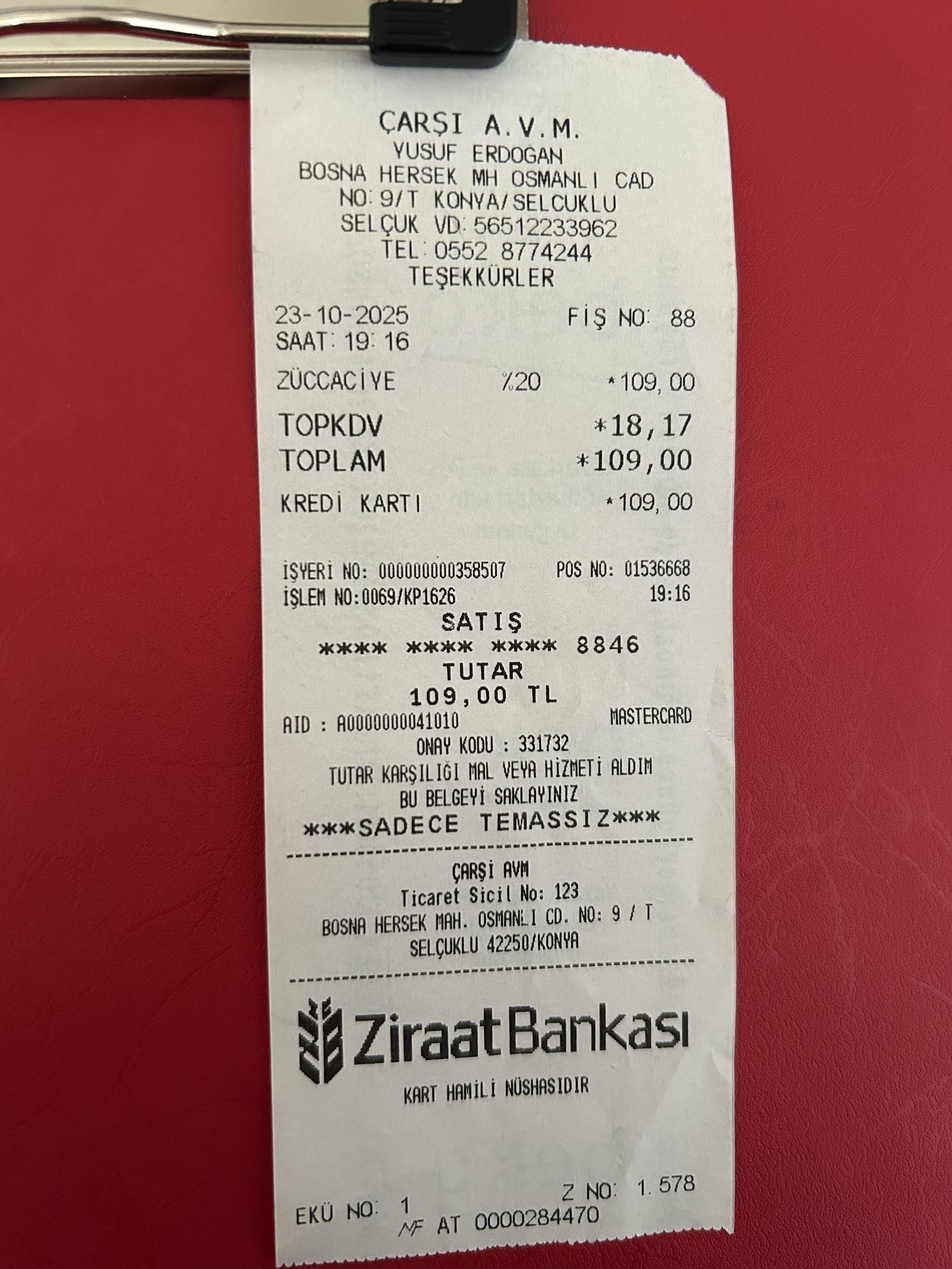date: (587, 444, 706, 480)
price: (264, 298, 412, 330)
workplace: (289, 96, 687, 217)
